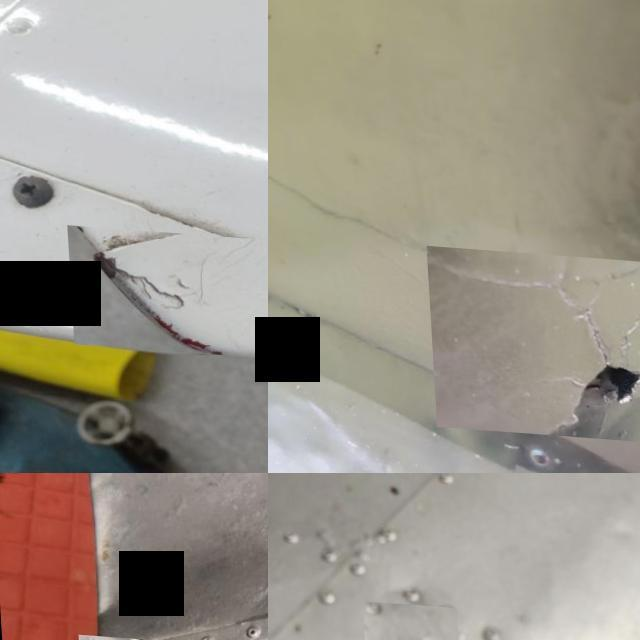Crack: (423, 242, 640, 437), (63, 223, 268, 358)
Dent: (358, 596, 457, 640)
